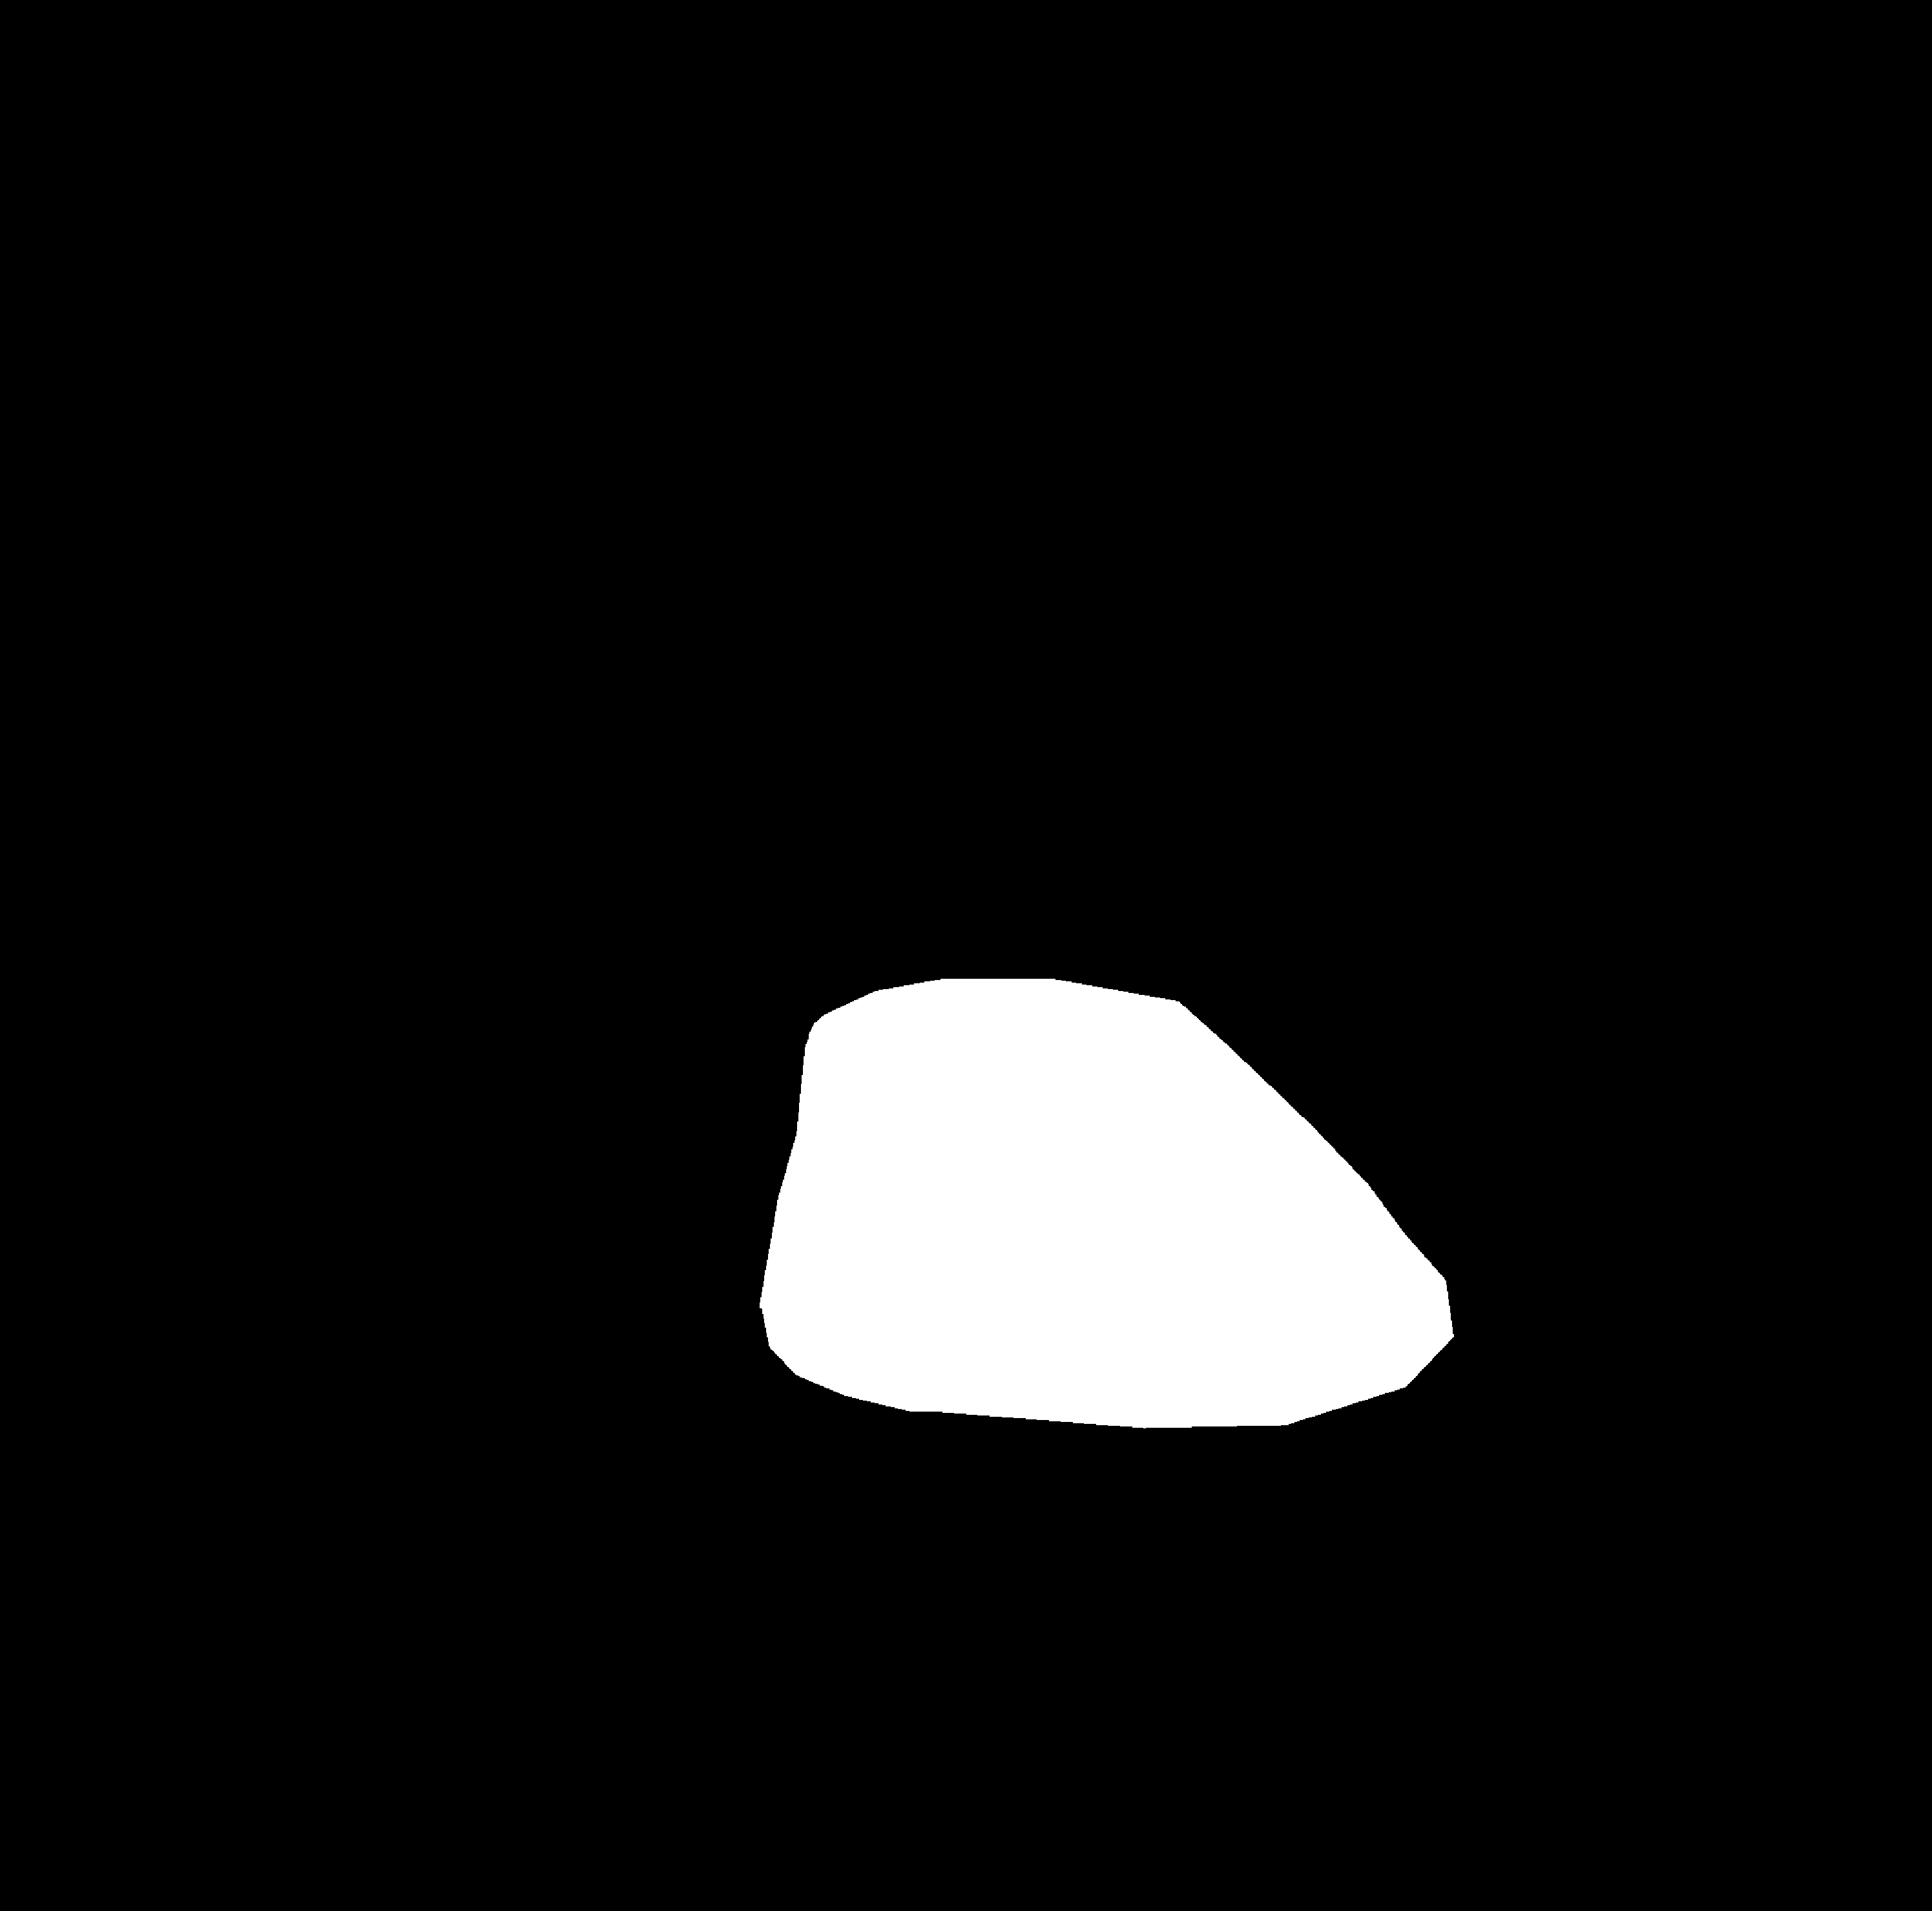heart: (765, 1055, 1440, 1519)
left_lung: (268, 343, 859, 1505)
right_lung: (1039, 294, 1641, 1473)
